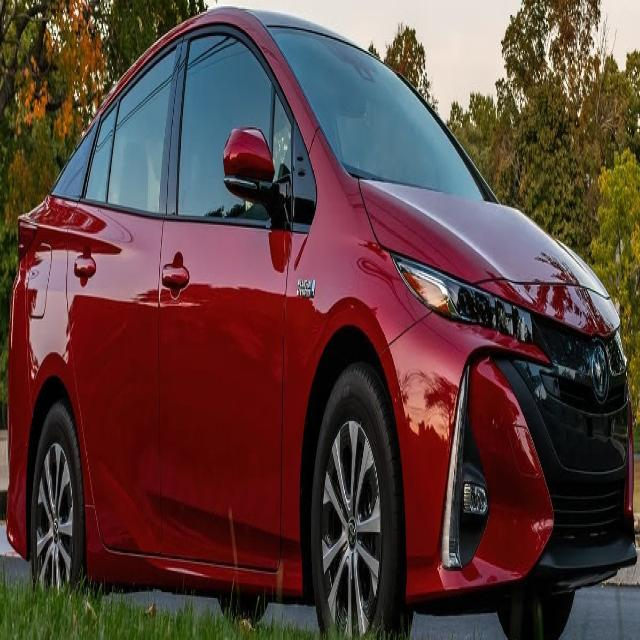maroon: (11, 25, 640, 640)
